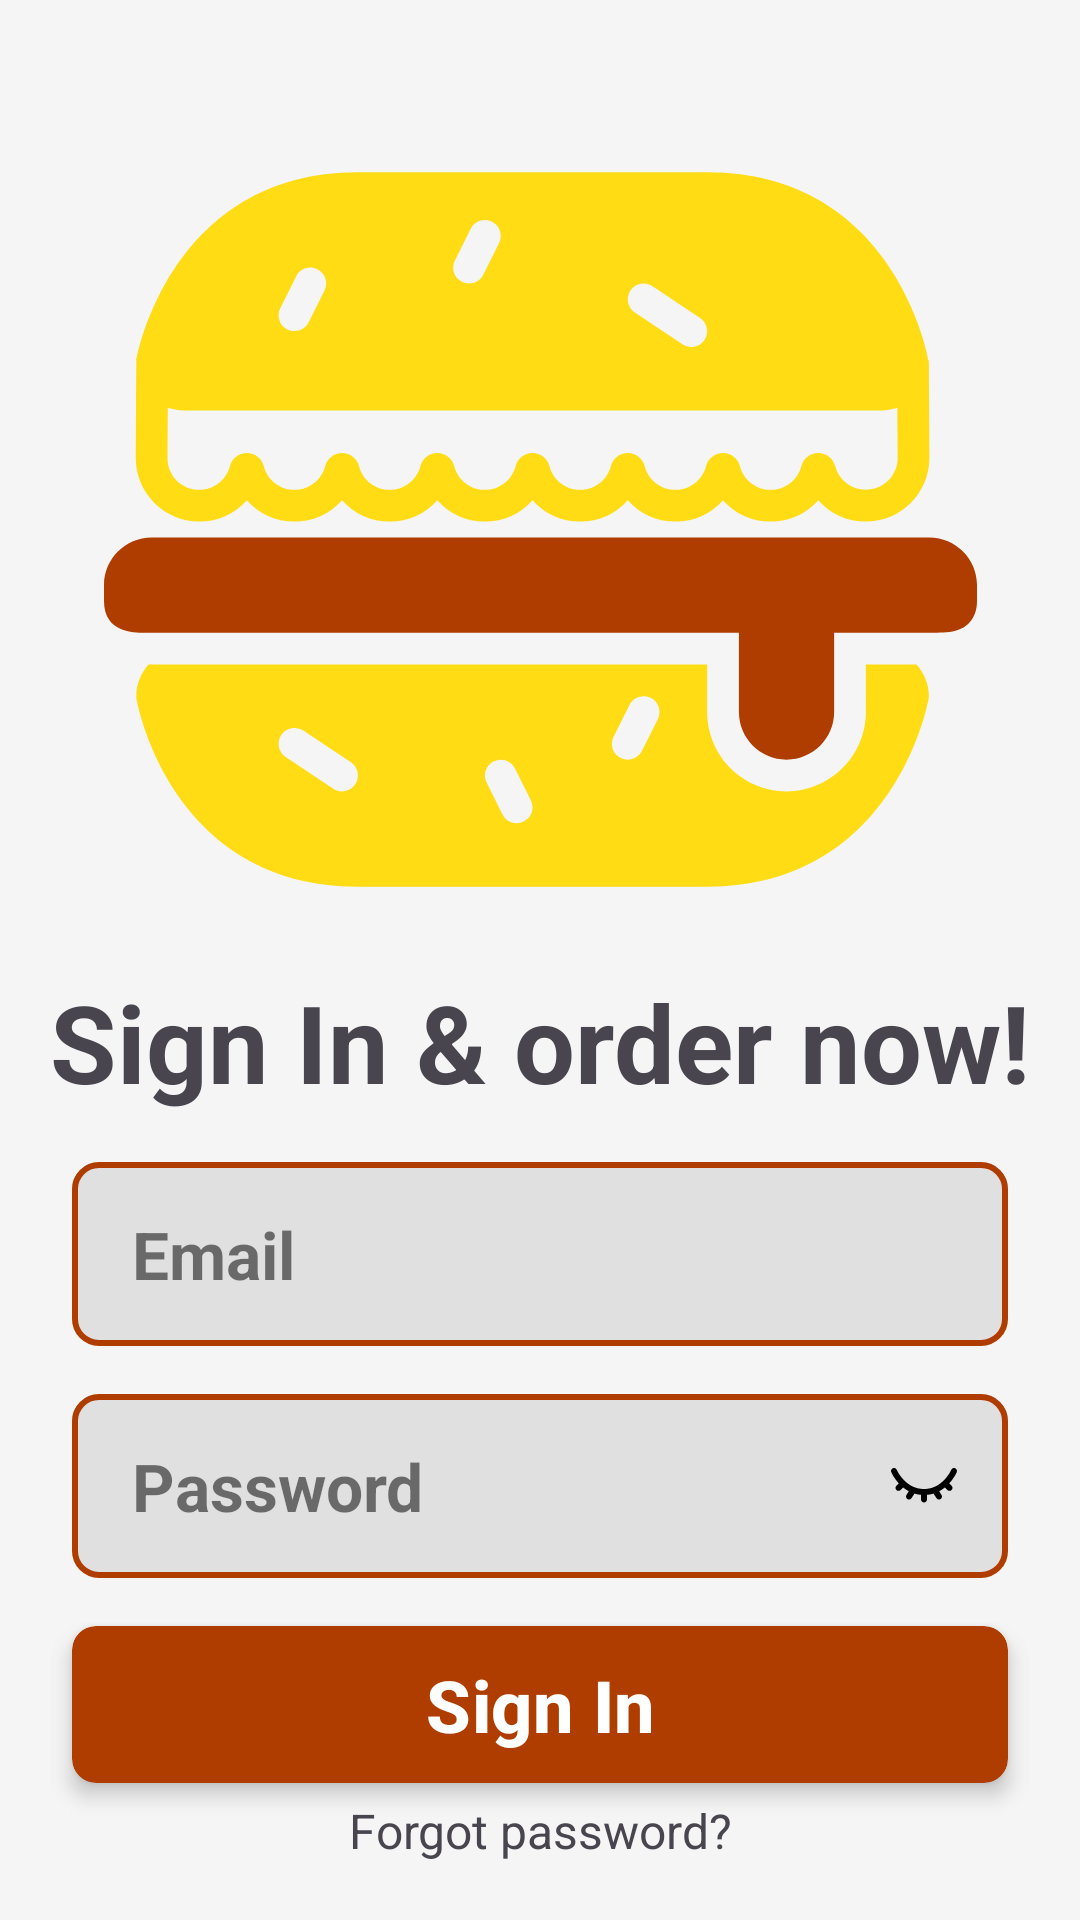

Screen size 1080 x 1920. Icon name, then its center in pixels as (x,y):
eye closed: (924,1485)
